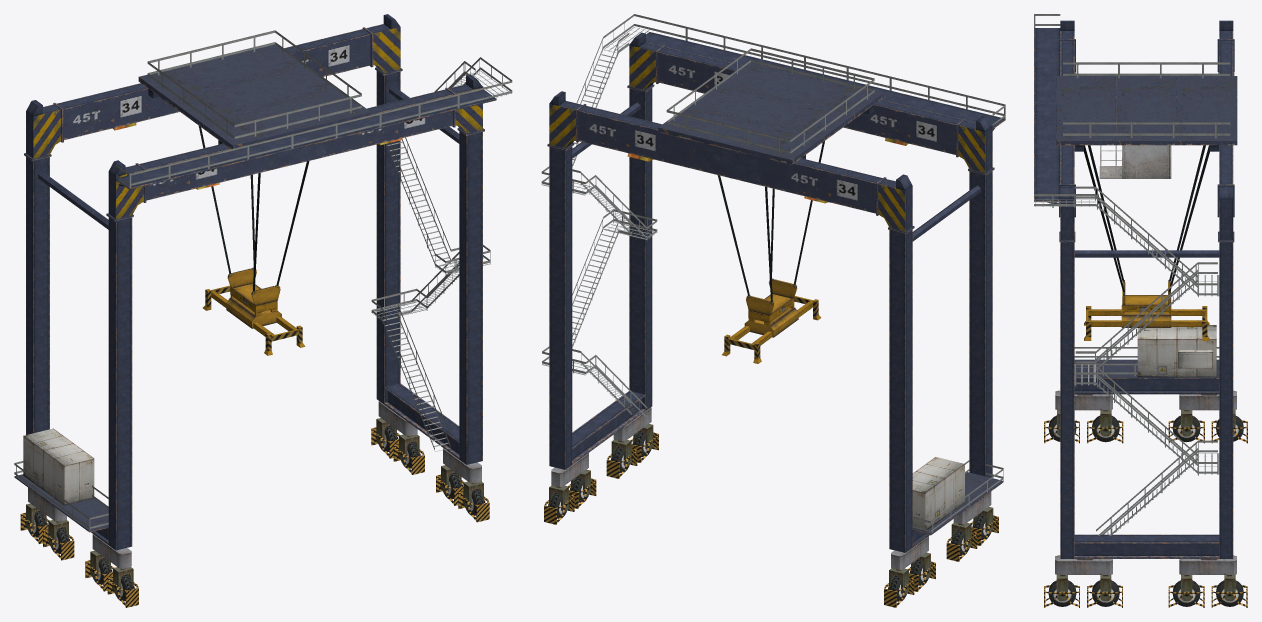
The model's file is 04_port_crane.fbx.
3 renders of one model, left to right at view 1: azimuth 30°, elevation 25°; view 2: azimuth 150°, elevation 25°; view 3: azimuth 270°, elevation 25°, orthographic. The views are drawn at different scales.
Visible parts, largest first — view 1: Obj_01, Obj_08, Obj_02, Obj_04, Obj_07, Obj_06, Obj_03; view 2: Obj_01, Obj_08, Obj_02, Obj_04, Obj_07, Obj_06, Obj_03; view 3: Obj_01, Obj_08, Obj_04, Obj_02, Obj_07, Obj_06, Obj_03.
Boxes of the visible parts, x1,y1,x2,y2 form: Obj_01: [14, 24, 496, 550]; Obj_08: [14, 30, 512, 530]; Obj_02: [21, 401, 489, 607]; Obj_04: [20, 126, 489, 607]; Obj_07: [211, 268, 298, 336]; Obj_06: [24, 14, 484, 221]; Obj_03: [203, 267, 305, 355]; Obj_01: [549, 32, 1005, 552]; Obj_08: [541, 14, 1005, 532]; Obj_02: [544, 407, 998, 607]; Obj_04: [544, 141, 998, 607]; Obj_07: [728, 279, 812, 345]; Obj_06: [547, 32, 994, 233]; Obj_03: [722, 278, 821, 363]; Obj_01: [1034, 28, 1237, 558]; Obj_08: [1034, 14, 1230, 535]; Obj_04: [1044, 145, 1247, 607]; Obj_02: [1055, 390, 1236, 601]; Obj_07: [1086, 145, 1206, 327]; Obj_06: [1047, 20, 1234, 368]; Obj_03: [1084, 145, 1209, 340].
Size of the model in its own units: 121 by 129 by 57.86.
Materials: 5 (5 with a texture image).
